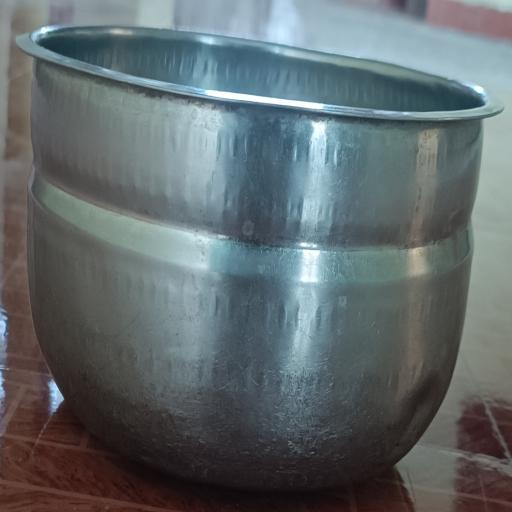vessel: (18, 27, 499, 488)
